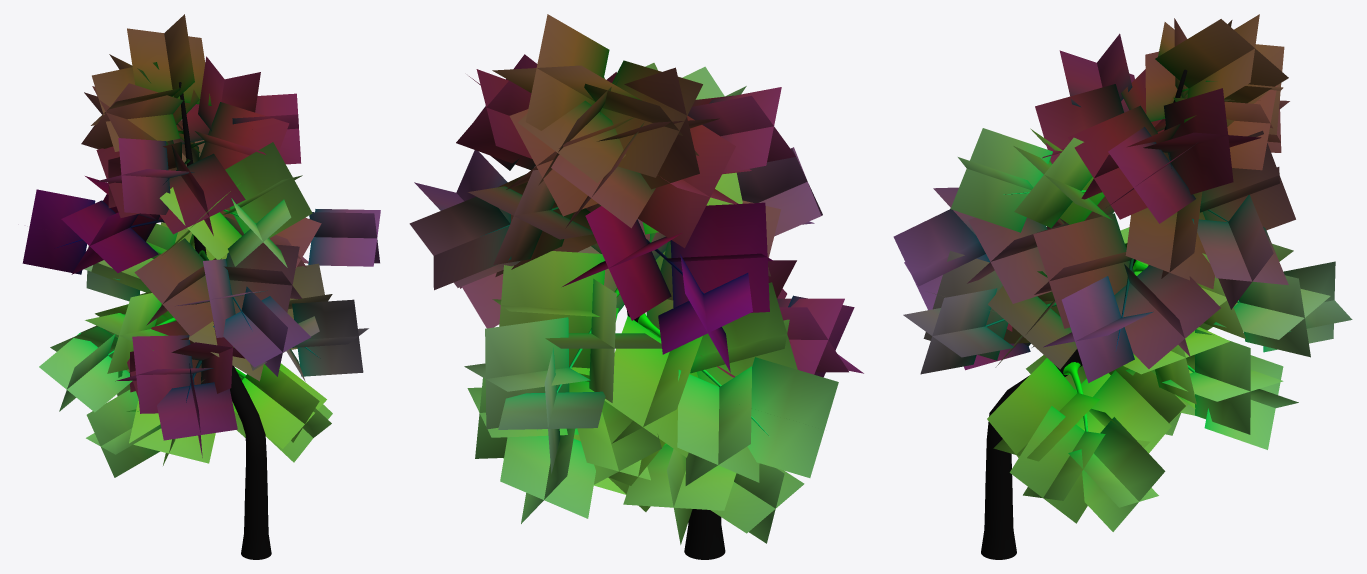
Rendered from URP_P7_Tree_11_LOD_0.fbx.
The picture shows the model from 3 angles, left to right: view 1: azimuth 30°, elevation 25°; view 2: azimuth 150°, elevation 25°; view 3: azimuth 270°, elevation 25°; orthographic projection. The views are drawn at different scales.
Visible parts, largest first — view 1: Tree_11_LOD_0; view 2: Tree_11_LOD_0; view 3: Tree_11_LOD_0.
Boxes of the visible parts, bbox=[...] form: Tree_11_LOD_0: bbox=[22, 14, 380, 559]; Tree_11_LOD_0: bbox=[409, 14, 863, 559]; Tree_11_LOD_0: bbox=[893, 14, 1352, 559].
Size of the model in its own units: 292 by 402 by 306.
